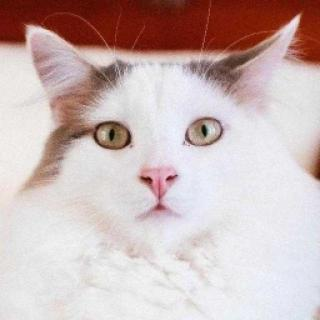cat: (27, 14, 305, 264)
nose: (132, 145, 188, 200)
